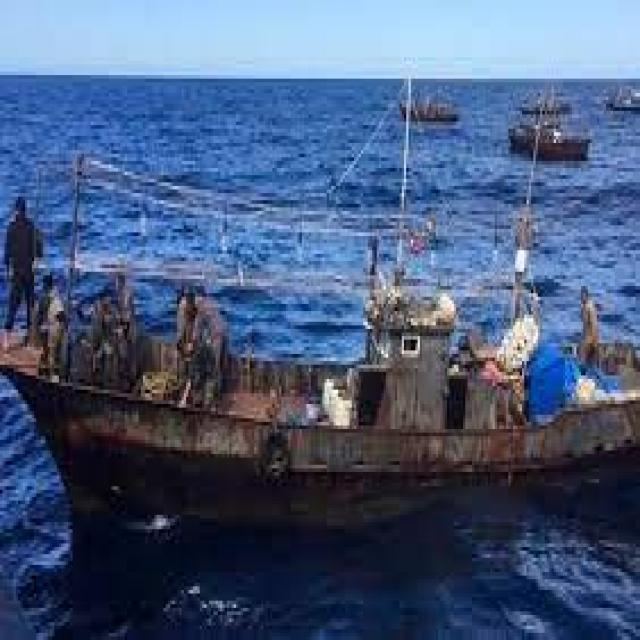Ship: (8, 148, 640, 531)
